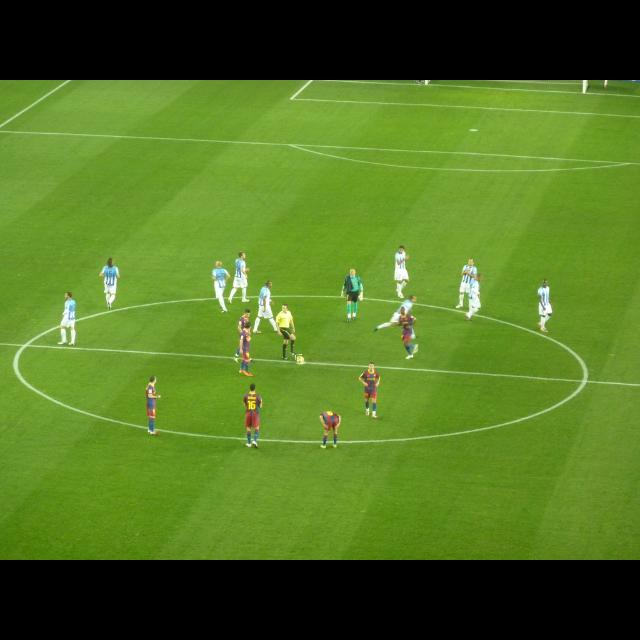Football: (296, 355, 302, 361)
